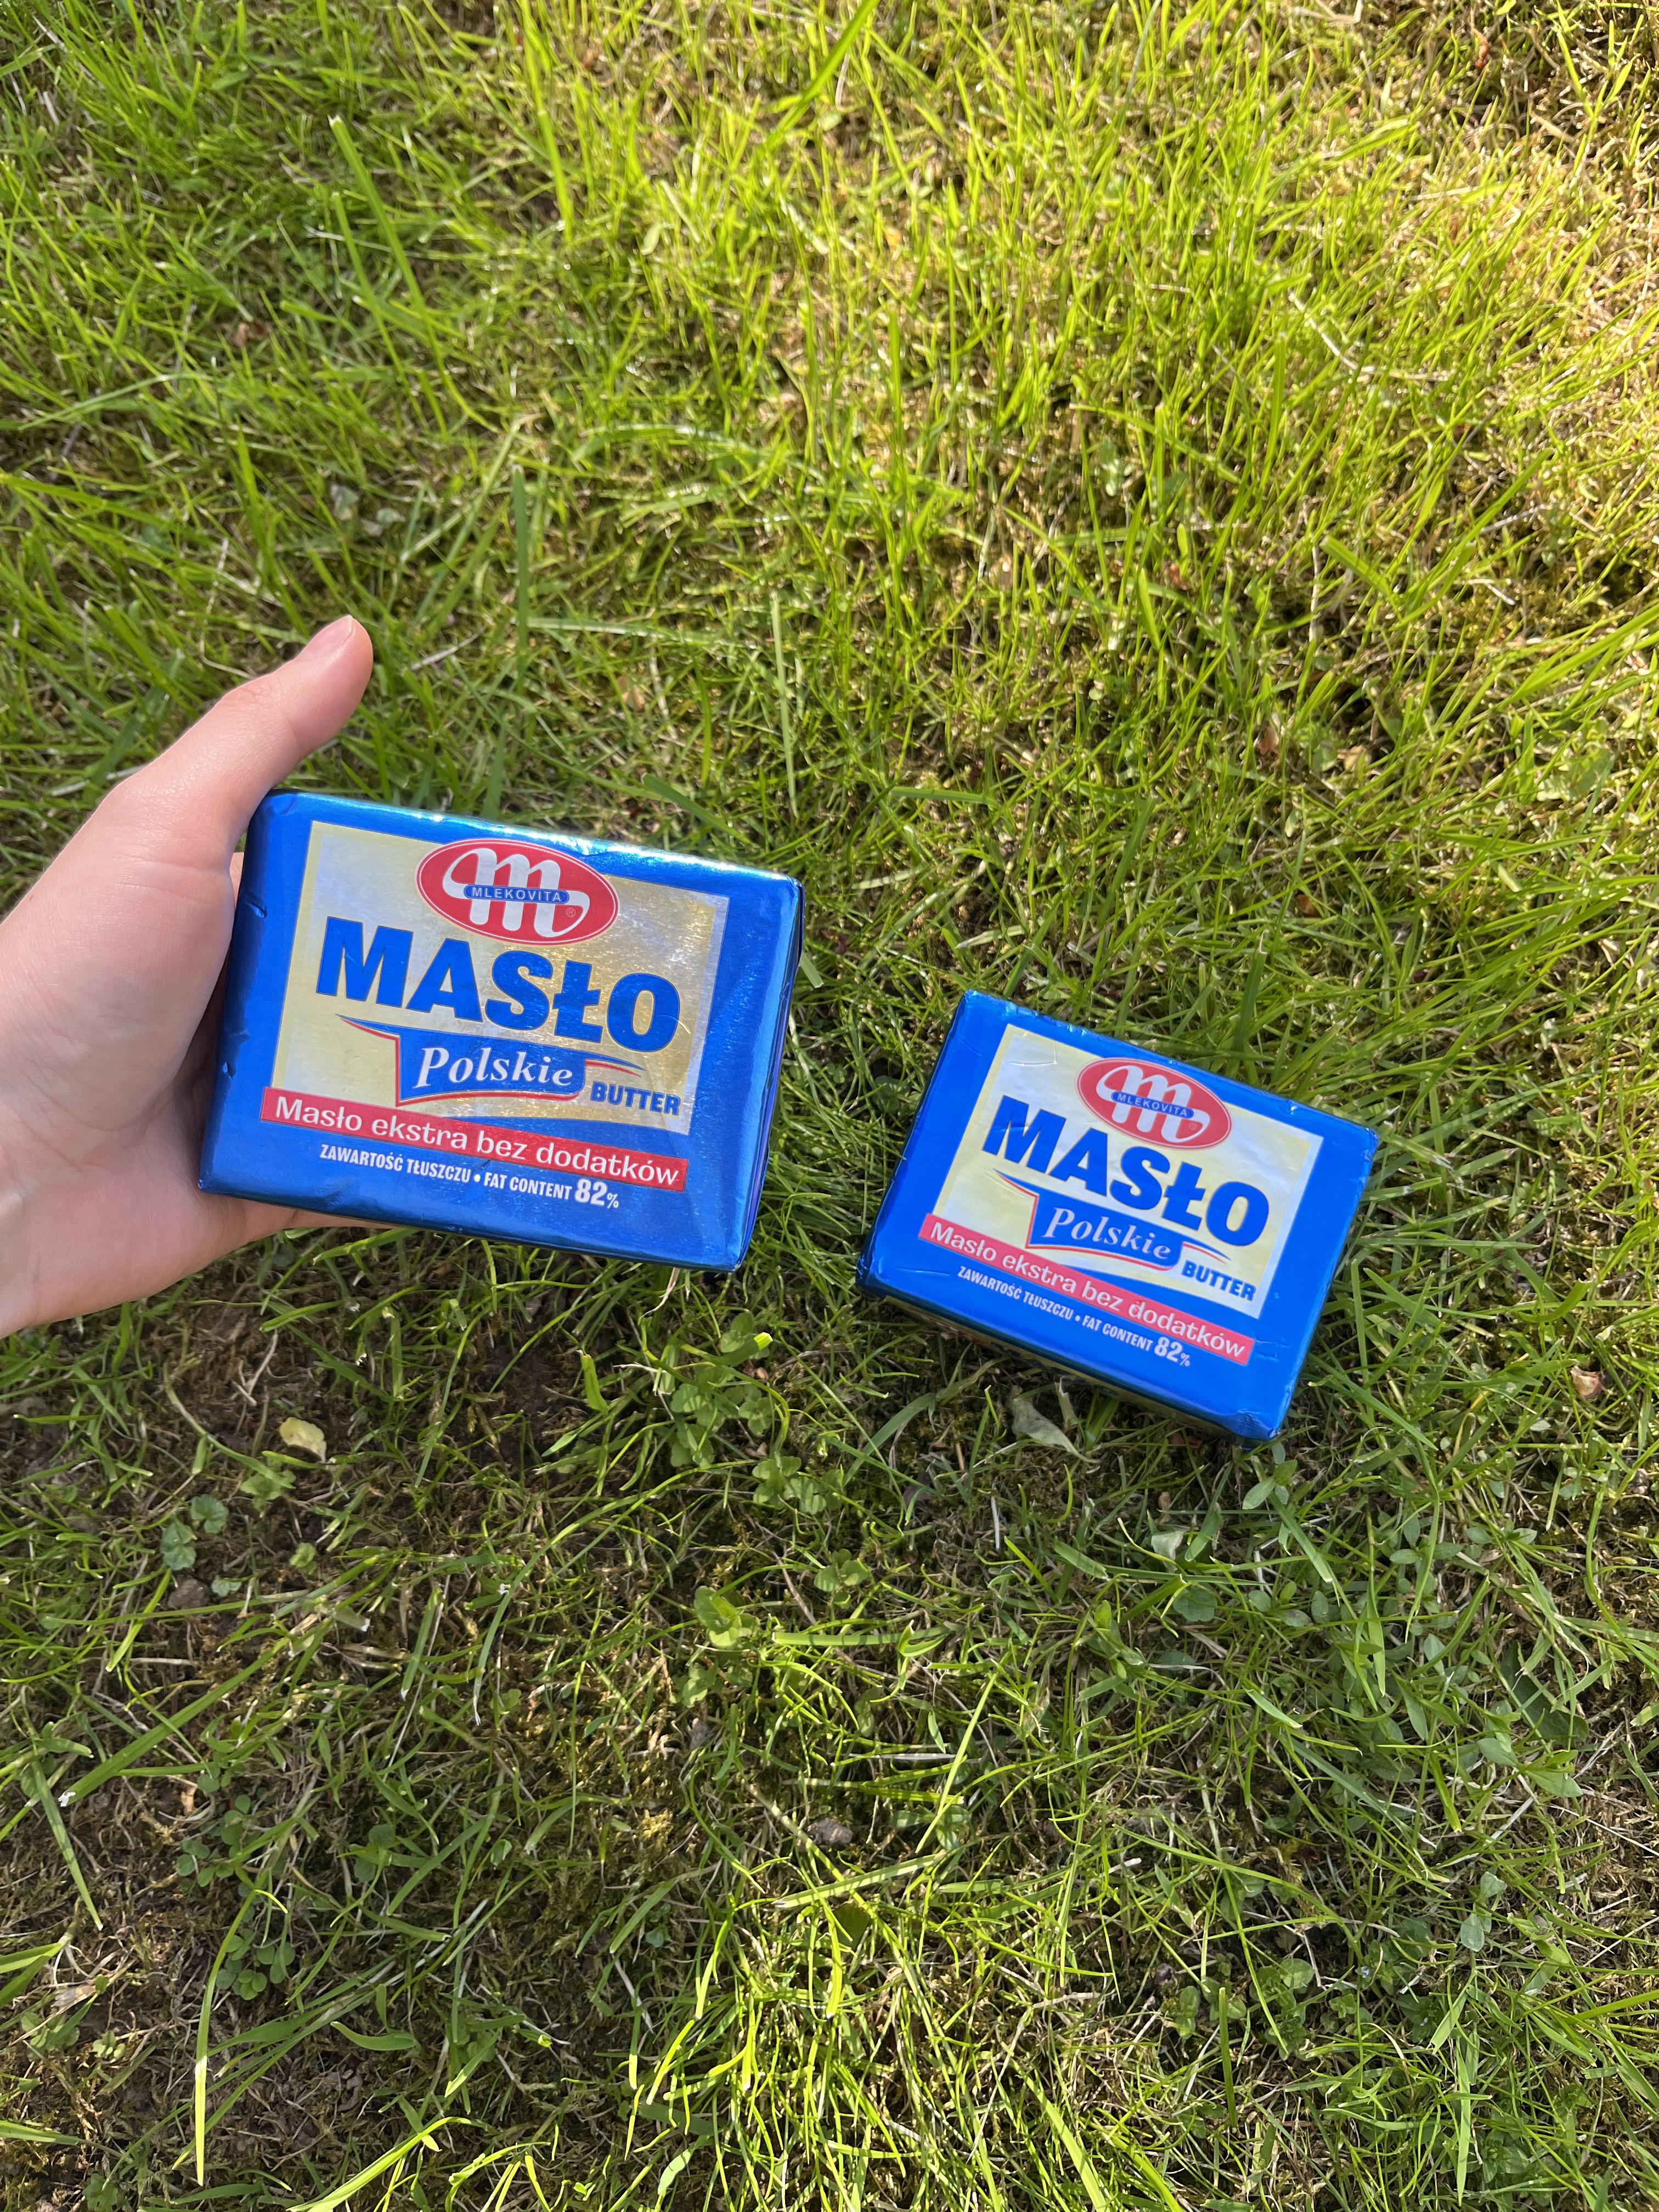Butter: (204, 787, 789, 1287), (870, 993, 1380, 1432)
